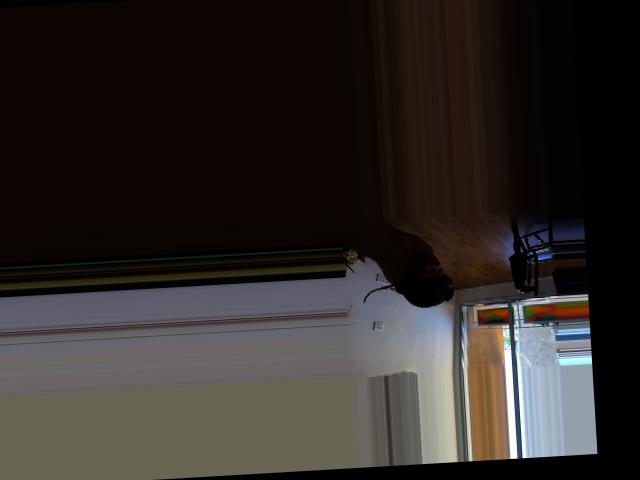beet: (363, 275, 456, 310)
